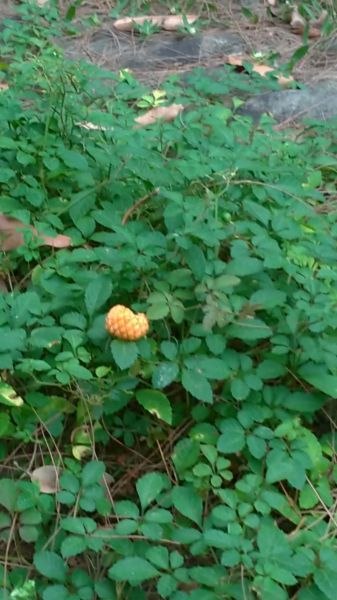eggs: (97, 298, 157, 344)
